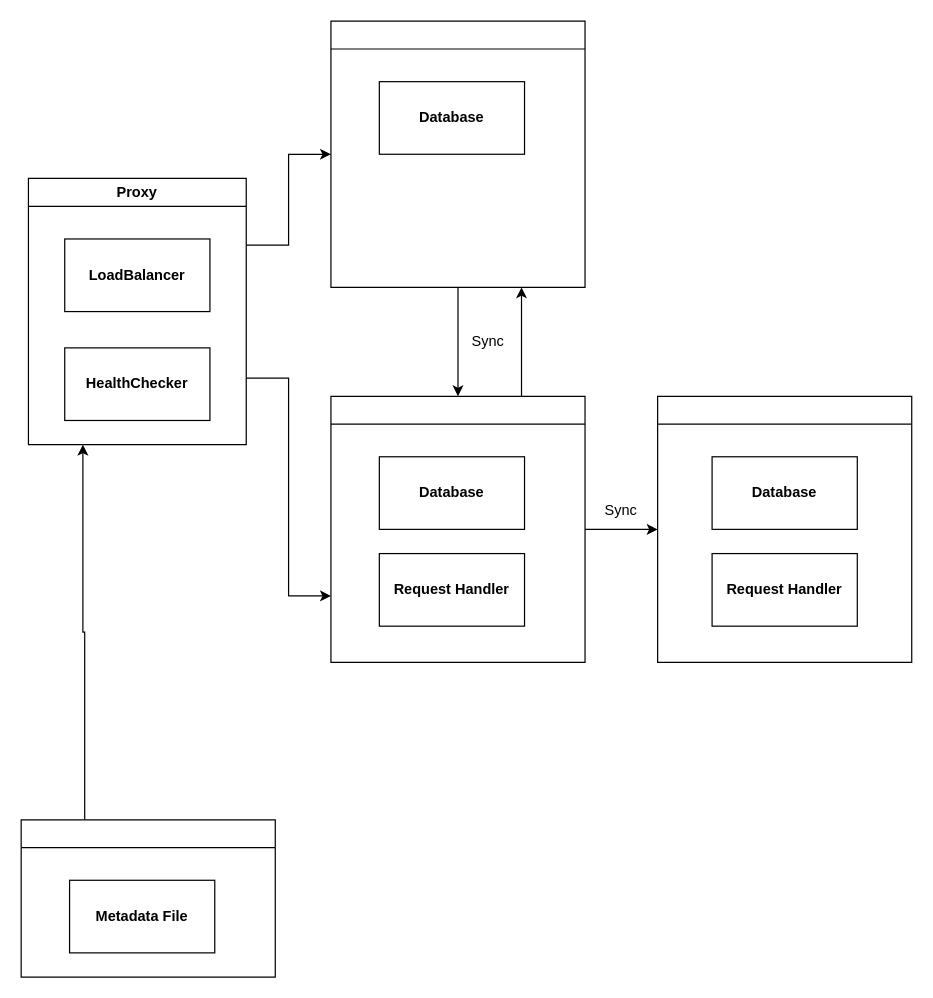
Some shapes in this 933 by 998 pixel diagram are drawn without their labels. Each missing label, with the box of its shape:
Backup Tracker: (330, 395, 585, 662)
Backup tracker 2: (656, 395, 912, 662)
Client: (20, 819, 275, 977)
Main Tracker: (330, 20, 585, 287)
